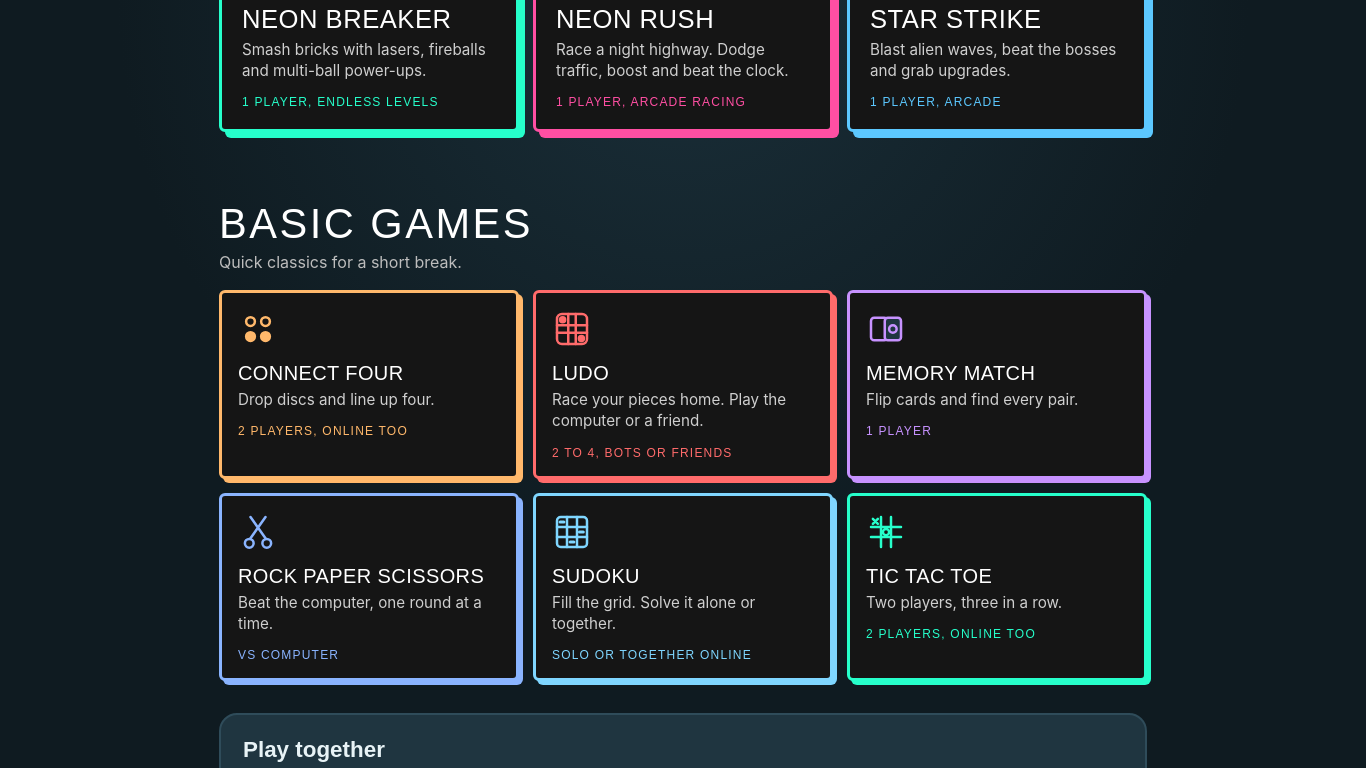
Test: hub › opens a game and goes back to the hub
The width and height of the screenshot is (1366, 768).
(page scrolled)
Click the button "Memory Match Flip cards and find every pair. 1 player": (997, 384) [847, 290, 1147, 479]
(page scrolled)
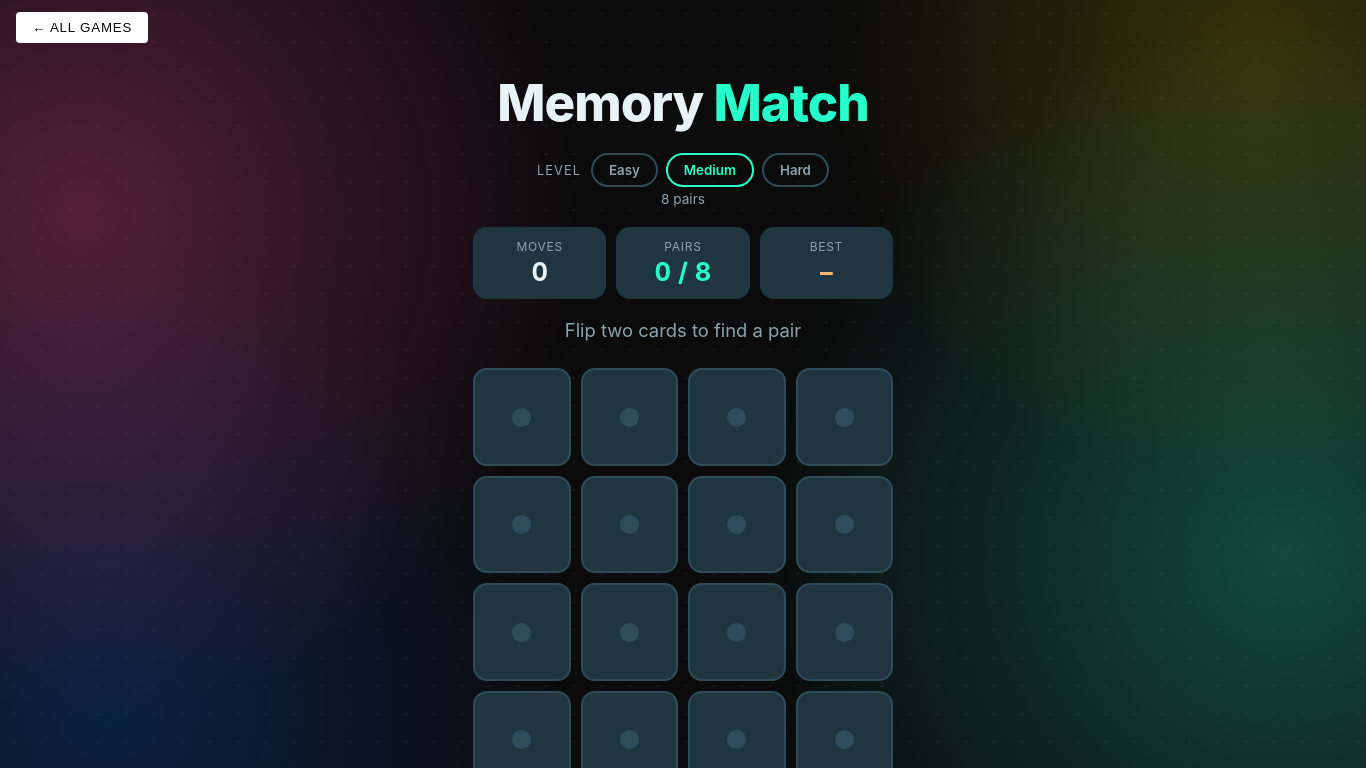
Expected: the heading "Memory Match" is shown, [497, 71, 869, 133]
Click the button "← All games": (82, 28) [16, 12, 148, 43]
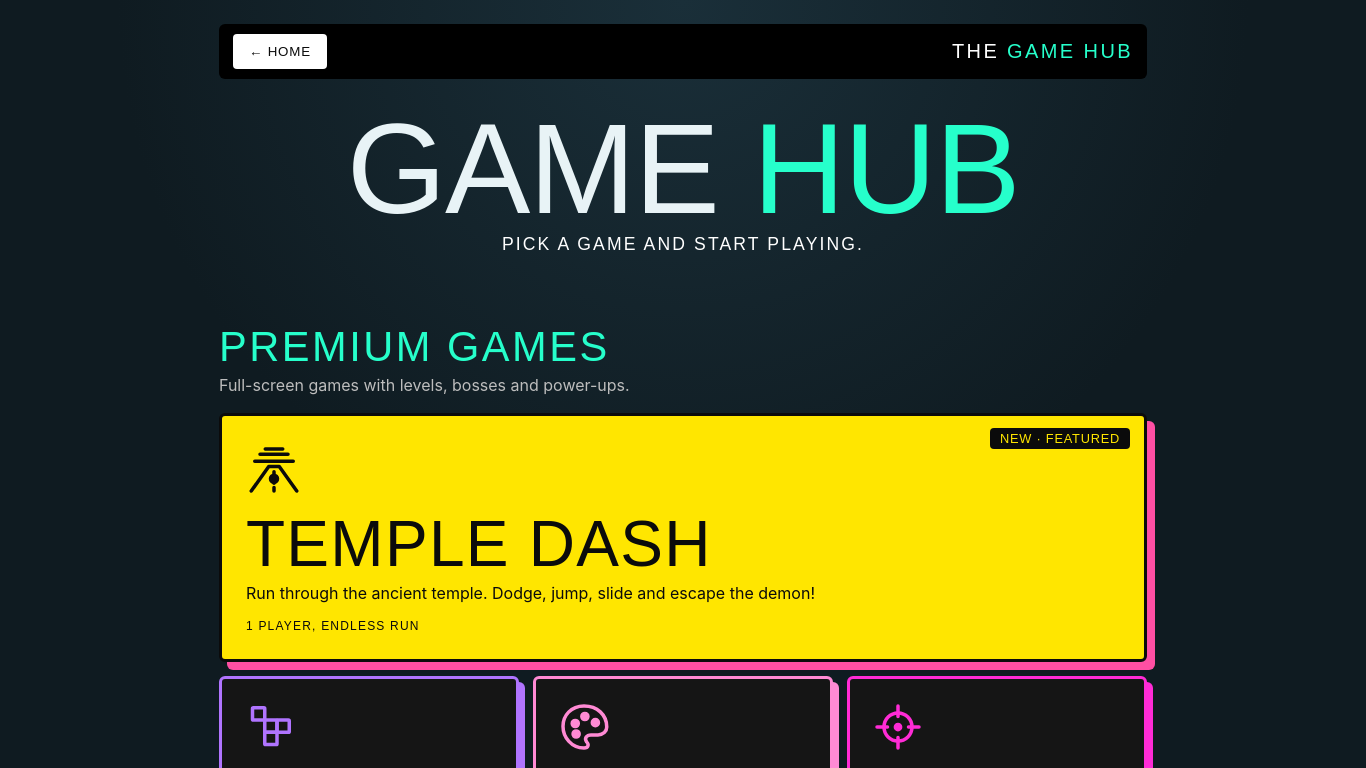
Now the heading "Game Hub" is shown, box [347, 111, 1019, 226]
